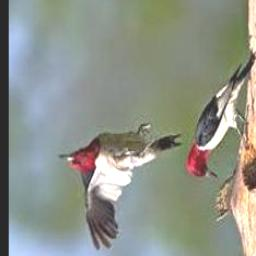Woodpecker: (58, 123, 183, 251), (185, 51, 256, 180)
